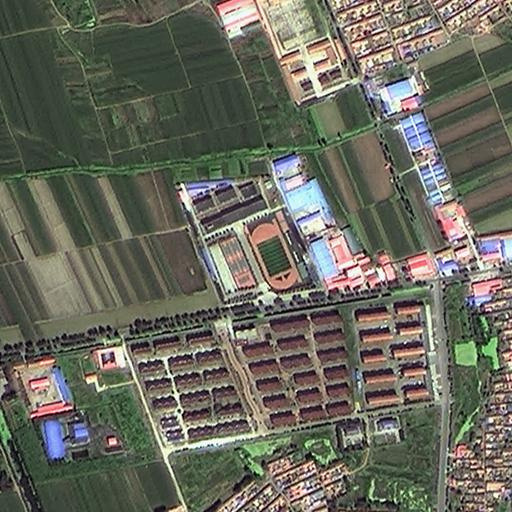school: (178, 172, 305, 295)
